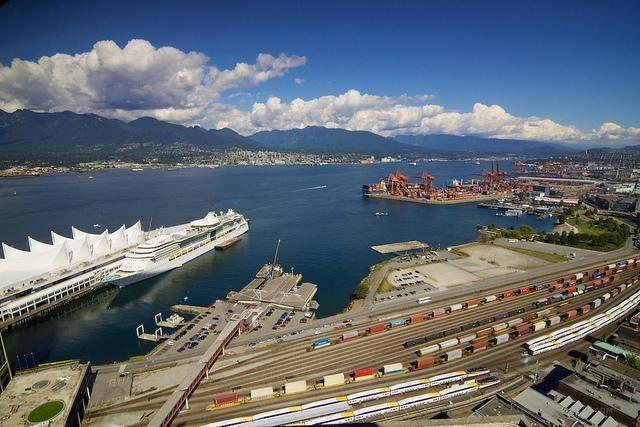car: (180, 341, 200, 350), (198, 335, 207, 341), (212, 317, 220, 321), (176, 348, 183, 352), (209, 326, 215, 330), (280, 324, 286, 327), (407, 276, 411, 280), (204, 332, 209, 334), (288, 316, 292, 318)
